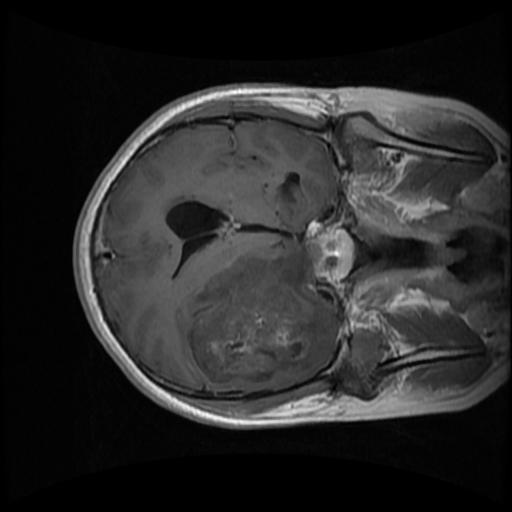glioma: (186, 242, 340, 383)
